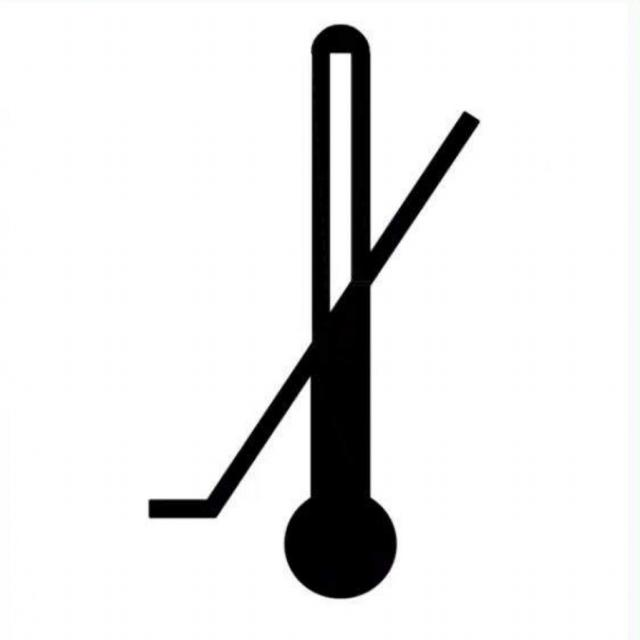Lower limit of temperature: (146, 23, 482, 604)
